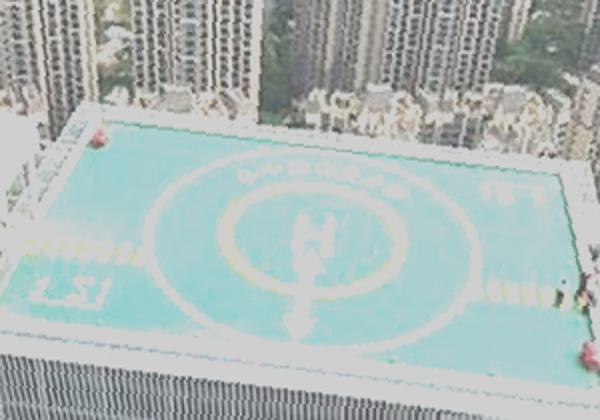Apron: (214, 180, 408, 297)
